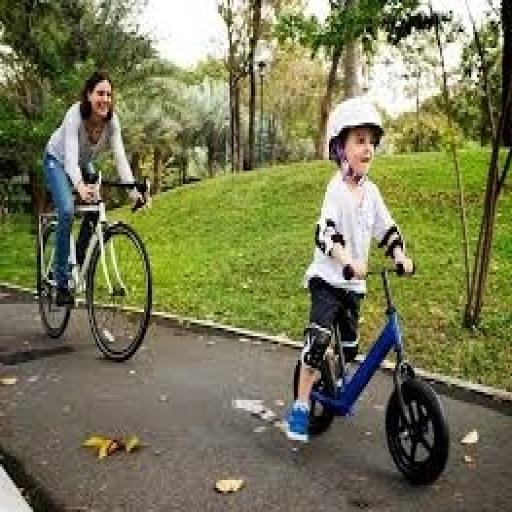cycling: (280, 94, 418, 446), (39, 67, 152, 312)
